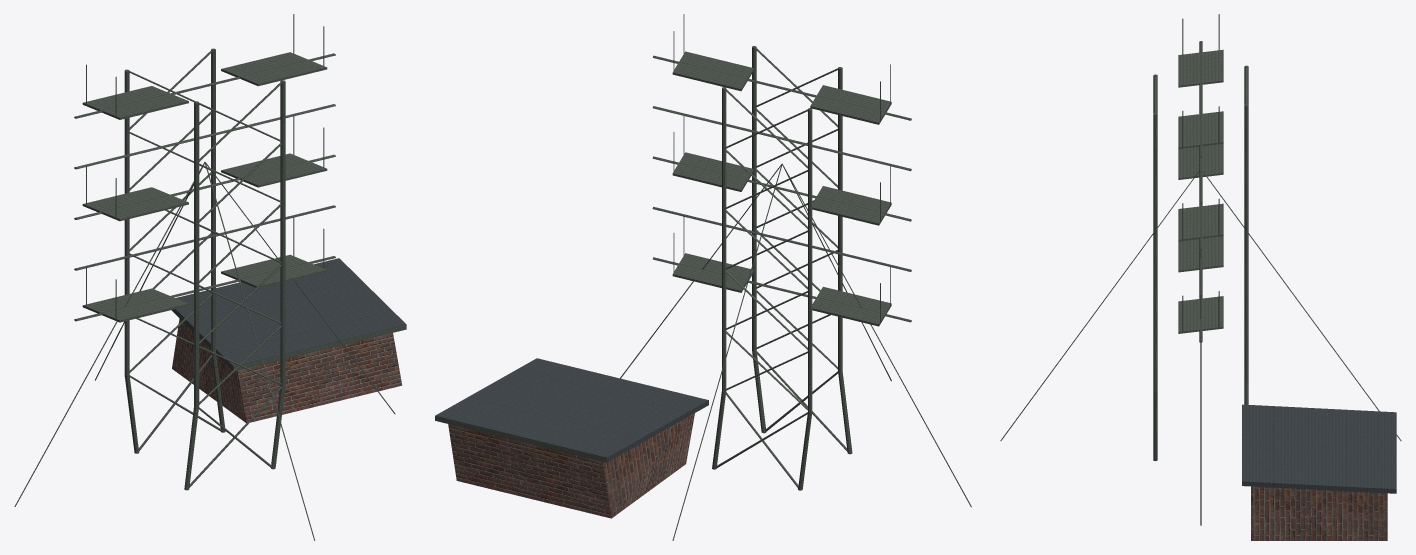
The model's file is damaged2.gltf.
The picture shows the model from 3 angles, left to right: view 1: azimuth 30°, elevation 25°; view 2: azimuth 150°, elevation 25°; view 3: azimuth 270°, elevation 25°; orthographic projection. The views are drawn at different scales.
Visible parts, largest first — view 1: britainradar_damaged2; view 2: britainradar_damaged2; view 3: britainradar_damaged2.
Part boxes in pixels (x1,y1,x2,y2): britainradar_damaged2: (14, 14, 406, 540); britainradar_damaged2: (435, 14, 971, 540); britainradar_damaged2: (1000, 14, 1401, 540).
Size of the model in its own units: 50 by 45.96 by 44.1.
Materials: 4 (4 with a texture image).
